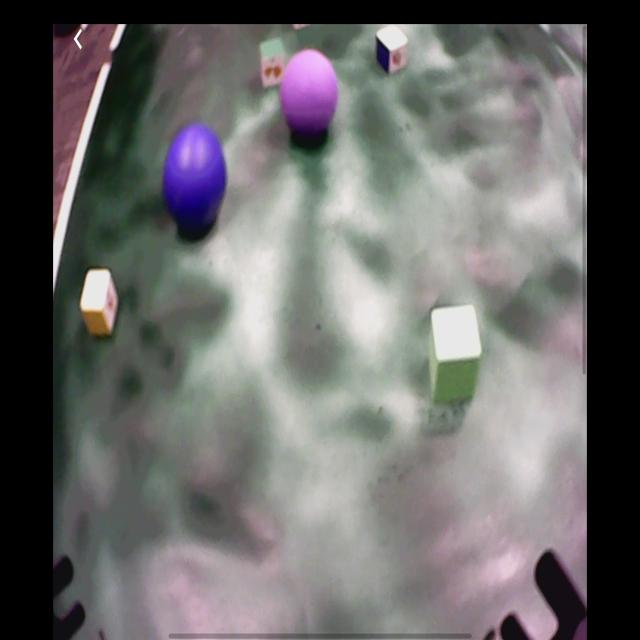ball: (165, 127, 226, 230), (282, 51, 340, 136)
